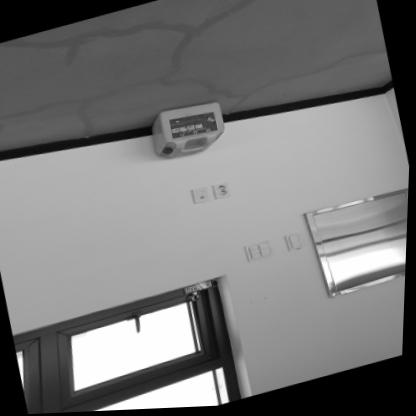DDL: (148, 98, 228, 165)
